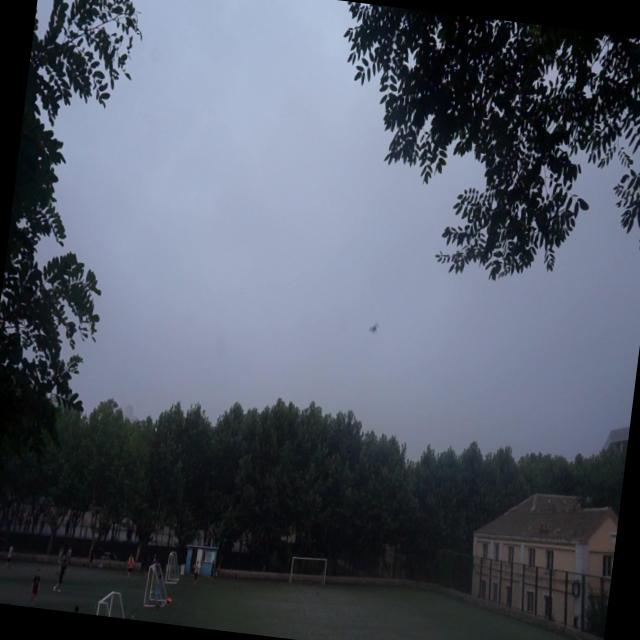drone: (366, 316, 380, 337)
